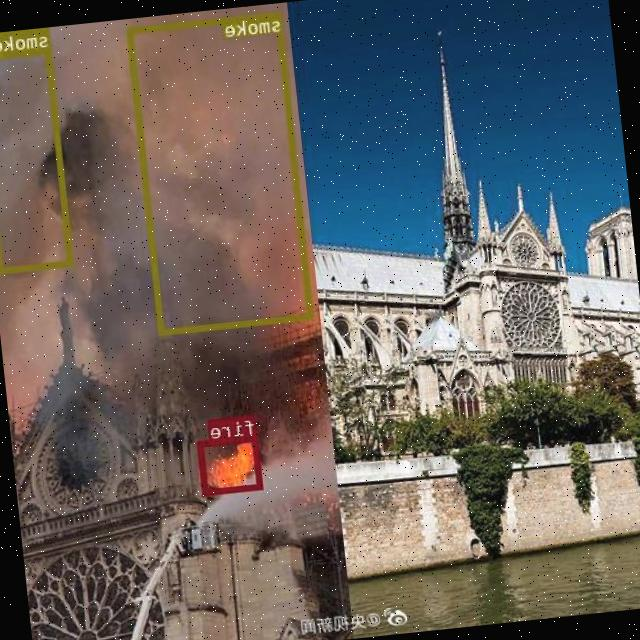fire: (198, 433, 264, 494)
smoke: (128, 9, 314, 333), (0, 46, 74, 272)
